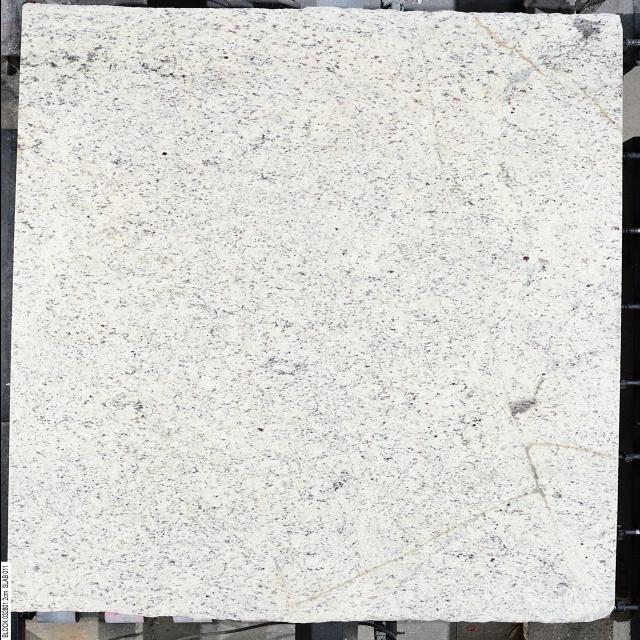chapa: (8, 5, 622, 622)
